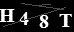4: (18, 11, 29, 26)
8: (39, 15, 49, 29)
H: (1, 8, 15, 23)
T: (58, 14, 73, 27)
